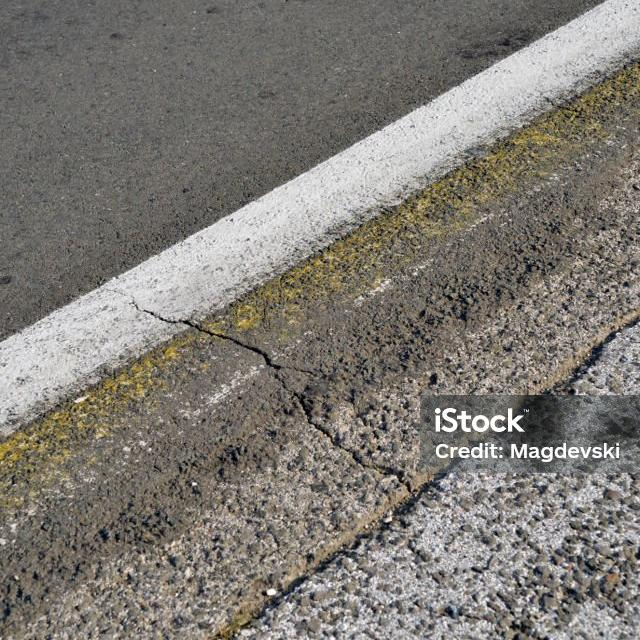retak_memanjang: (97, 287, 417, 504), (108, 463, 446, 640), (531, 150, 640, 391)
